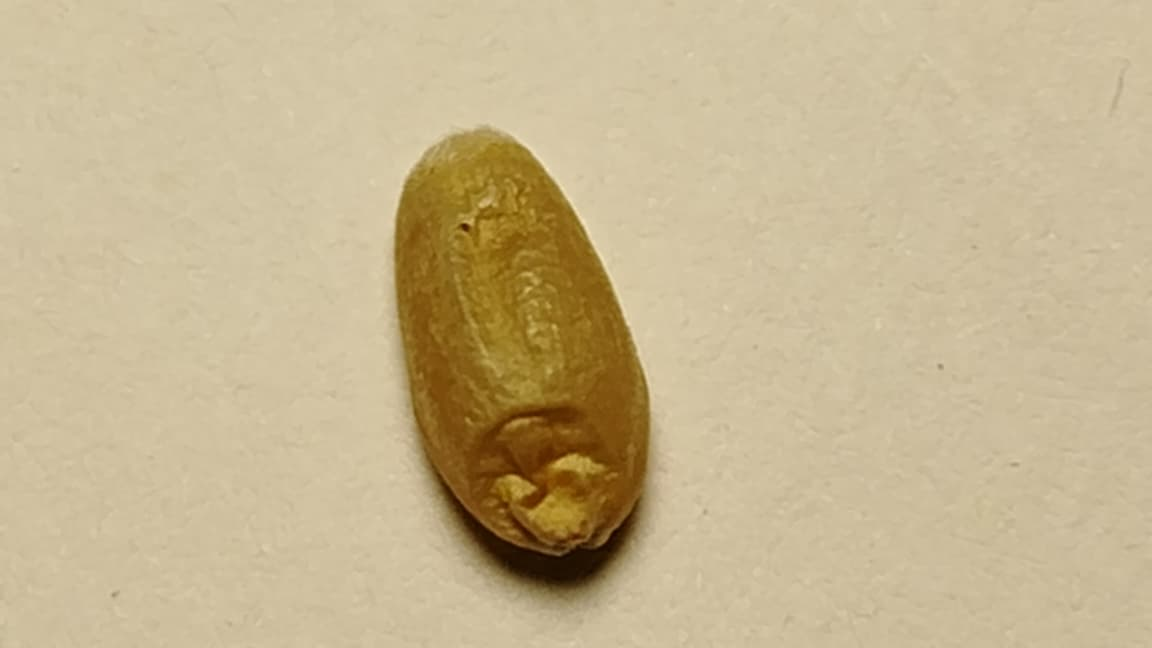healthy: (396, 129, 648, 552)
